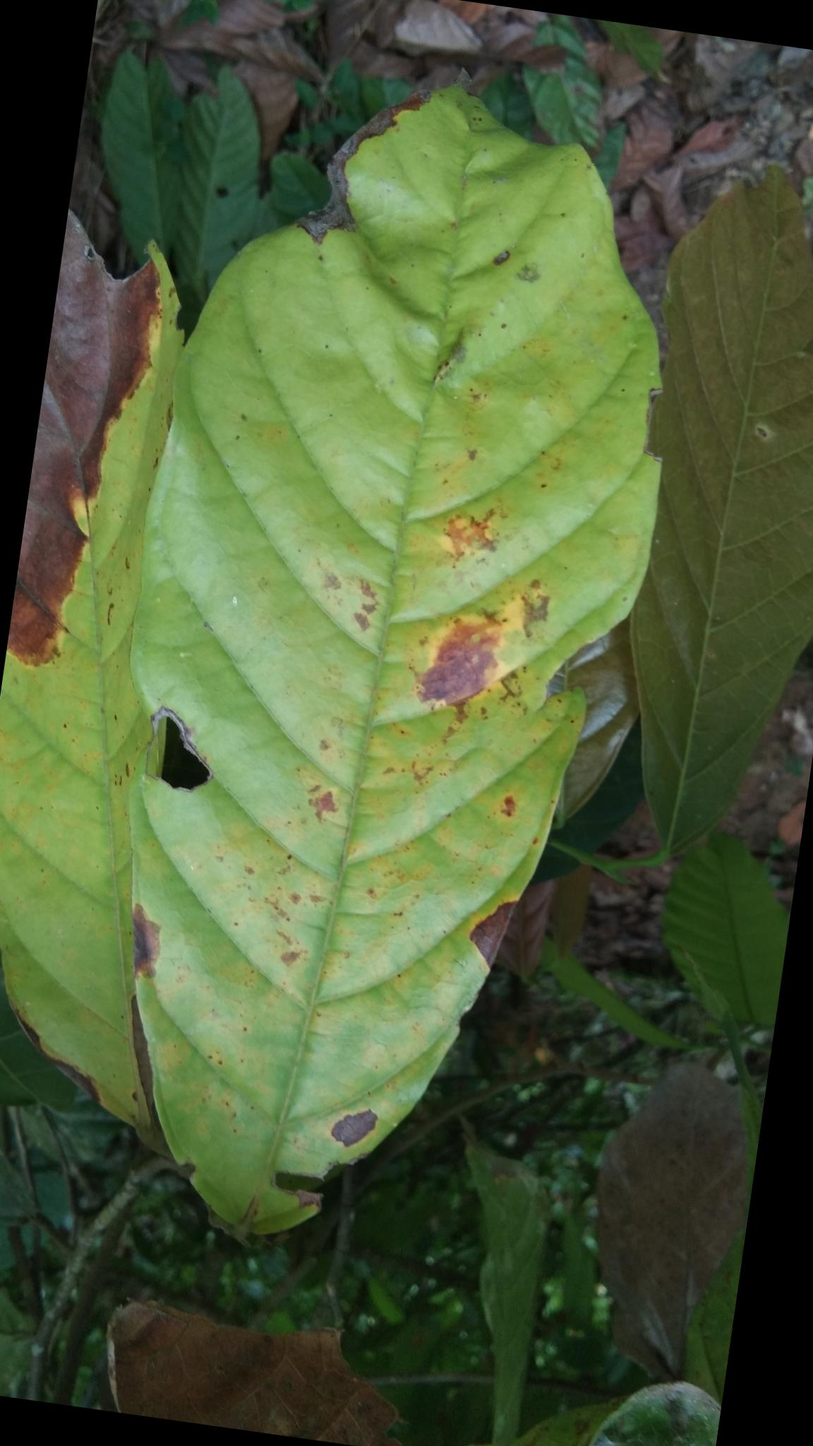Fosforo: (134, 88, 661, 1240)
